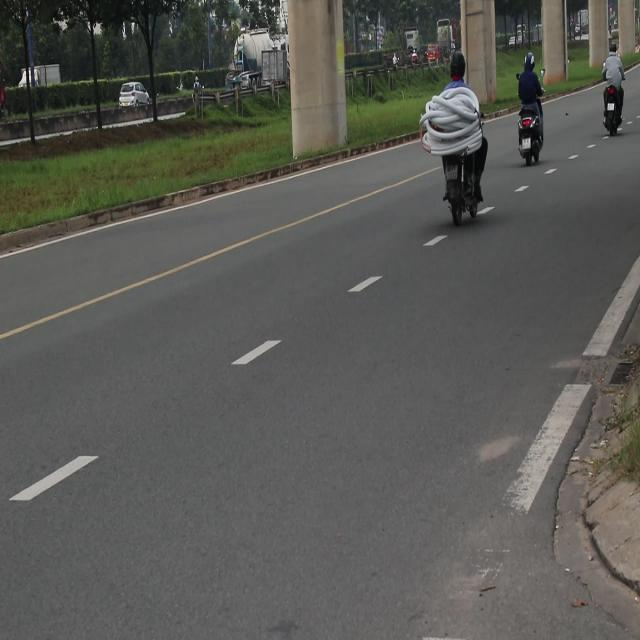car: (119, 83, 150, 106)
motorbike: (436, 138, 497, 230), (517, 104, 545, 167), (603, 86, 631, 146), (187, 67, 214, 117), (259, 37, 259, 42)
